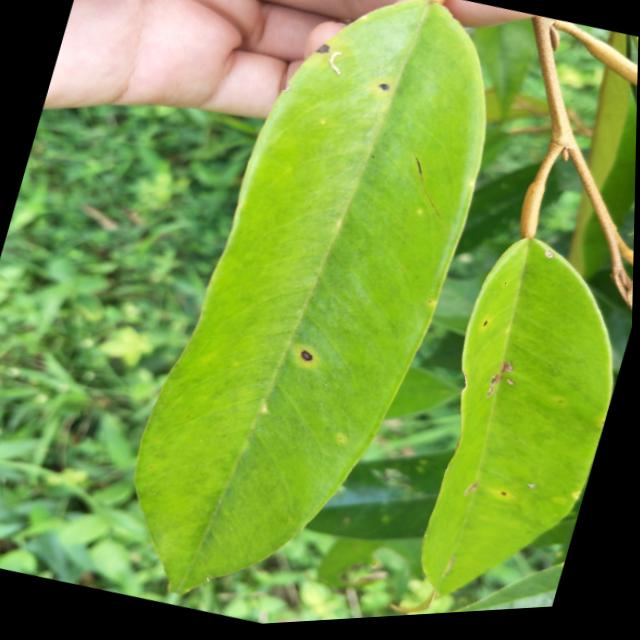Leaf Spot: (363, 66, 415, 116), (283, 336, 332, 386)
